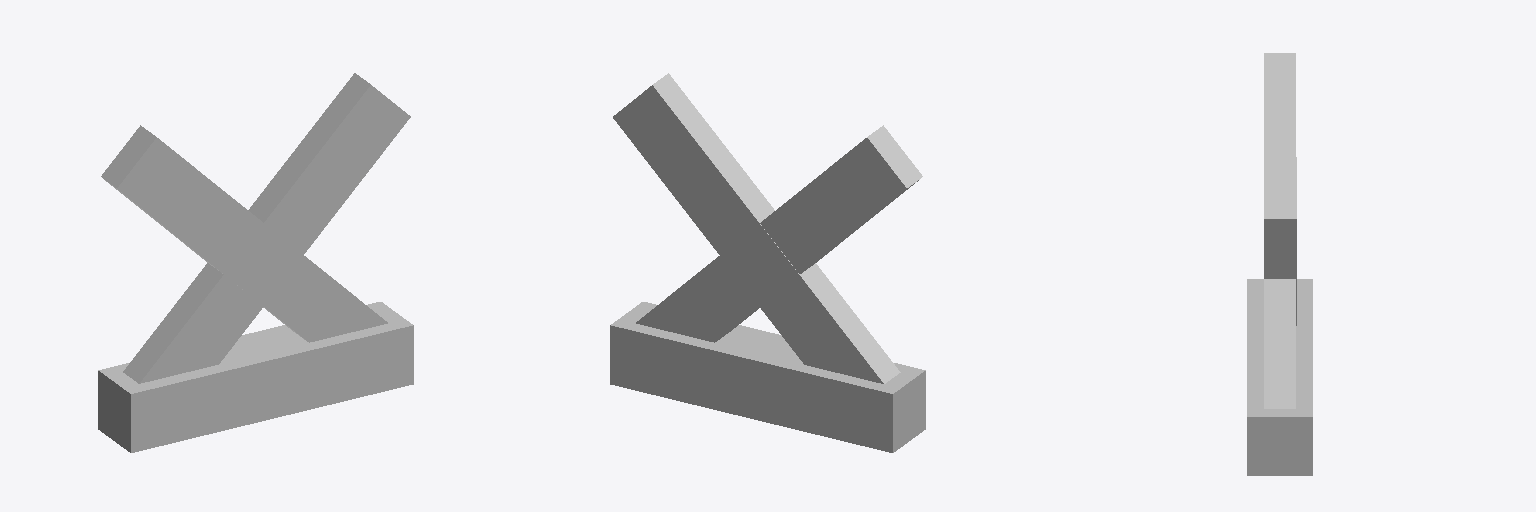
The model's file is beam_3.obj.
The picture shows the model from 3 angles: view 1: azimuth 30°, elevation 25°; view 2: azimuth 150°, elevation 25°; view 3: azimuth 270°, elevation 25°; orthographic projection.
Visible parts, largest first — view 1: beam_3_Cube.075; view 2: beam_3_Cube.075; view 3: beam_3_Cube.075.
Boxes of the visible parts, x1,y1,x2,y2 form: beam_3_Cube.075: [98, 73, 413, 452]; beam_3_Cube.075: [610, 73, 925, 452]; beam_3_Cube.075: [1247, 53, 1312, 475].
Bounding box in the file's own units: 1.3 × 1.28 × 0.25.